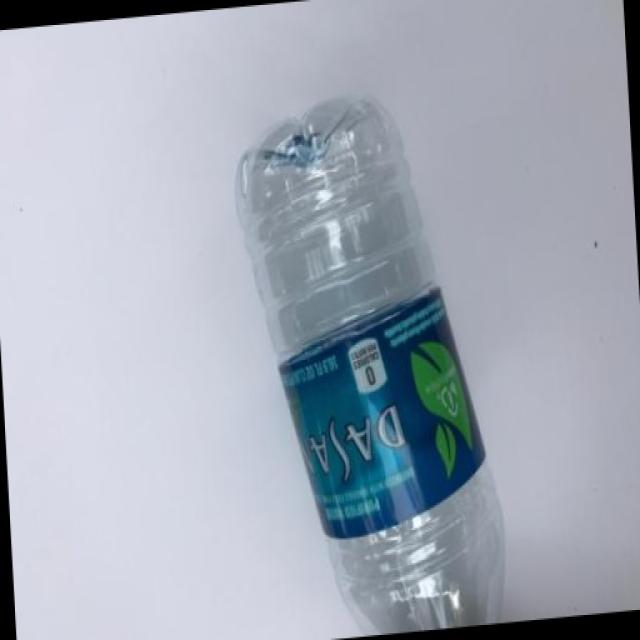plastico: (230, 81, 526, 636)
